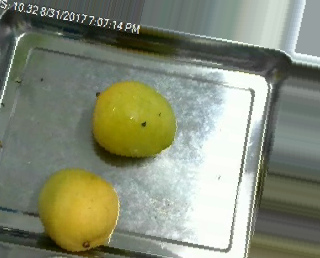Mango: (38, 168, 119, 251), (93, 80, 175, 157)
